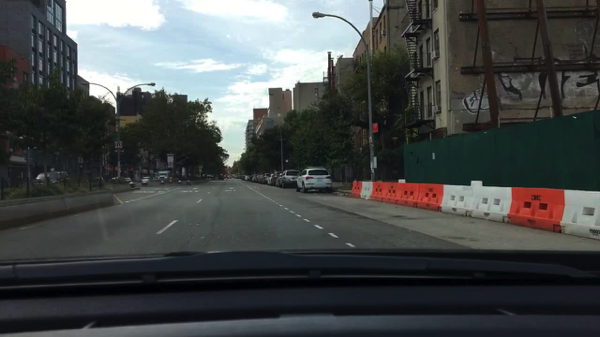car: (294, 166, 334, 195), (34, 173, 71, 188), (278, 169, 301, 188), (110, 176, 132, 184), (90, 176, 104, 188), (272, 171, 282, 186), (264, 173, 274, 186), (259, 173, 266, 185), (141, 176, 150, 185), (245, 173, 253, 181), (217, 174, 225, 182), (241, 174, 249, 181), (250, 174, 257, 182), (201, 173, 212, 178), (256, 174, 261, 183)
traffic sign: (112, 148, 125, 154), (113, 141, 123, 147), (372, 123, 378, 133), (167, 162, 173, 169), (166, 152, 173, 157), (166, 158, 173, 163)
truck: (156, 169, 170, 181)
